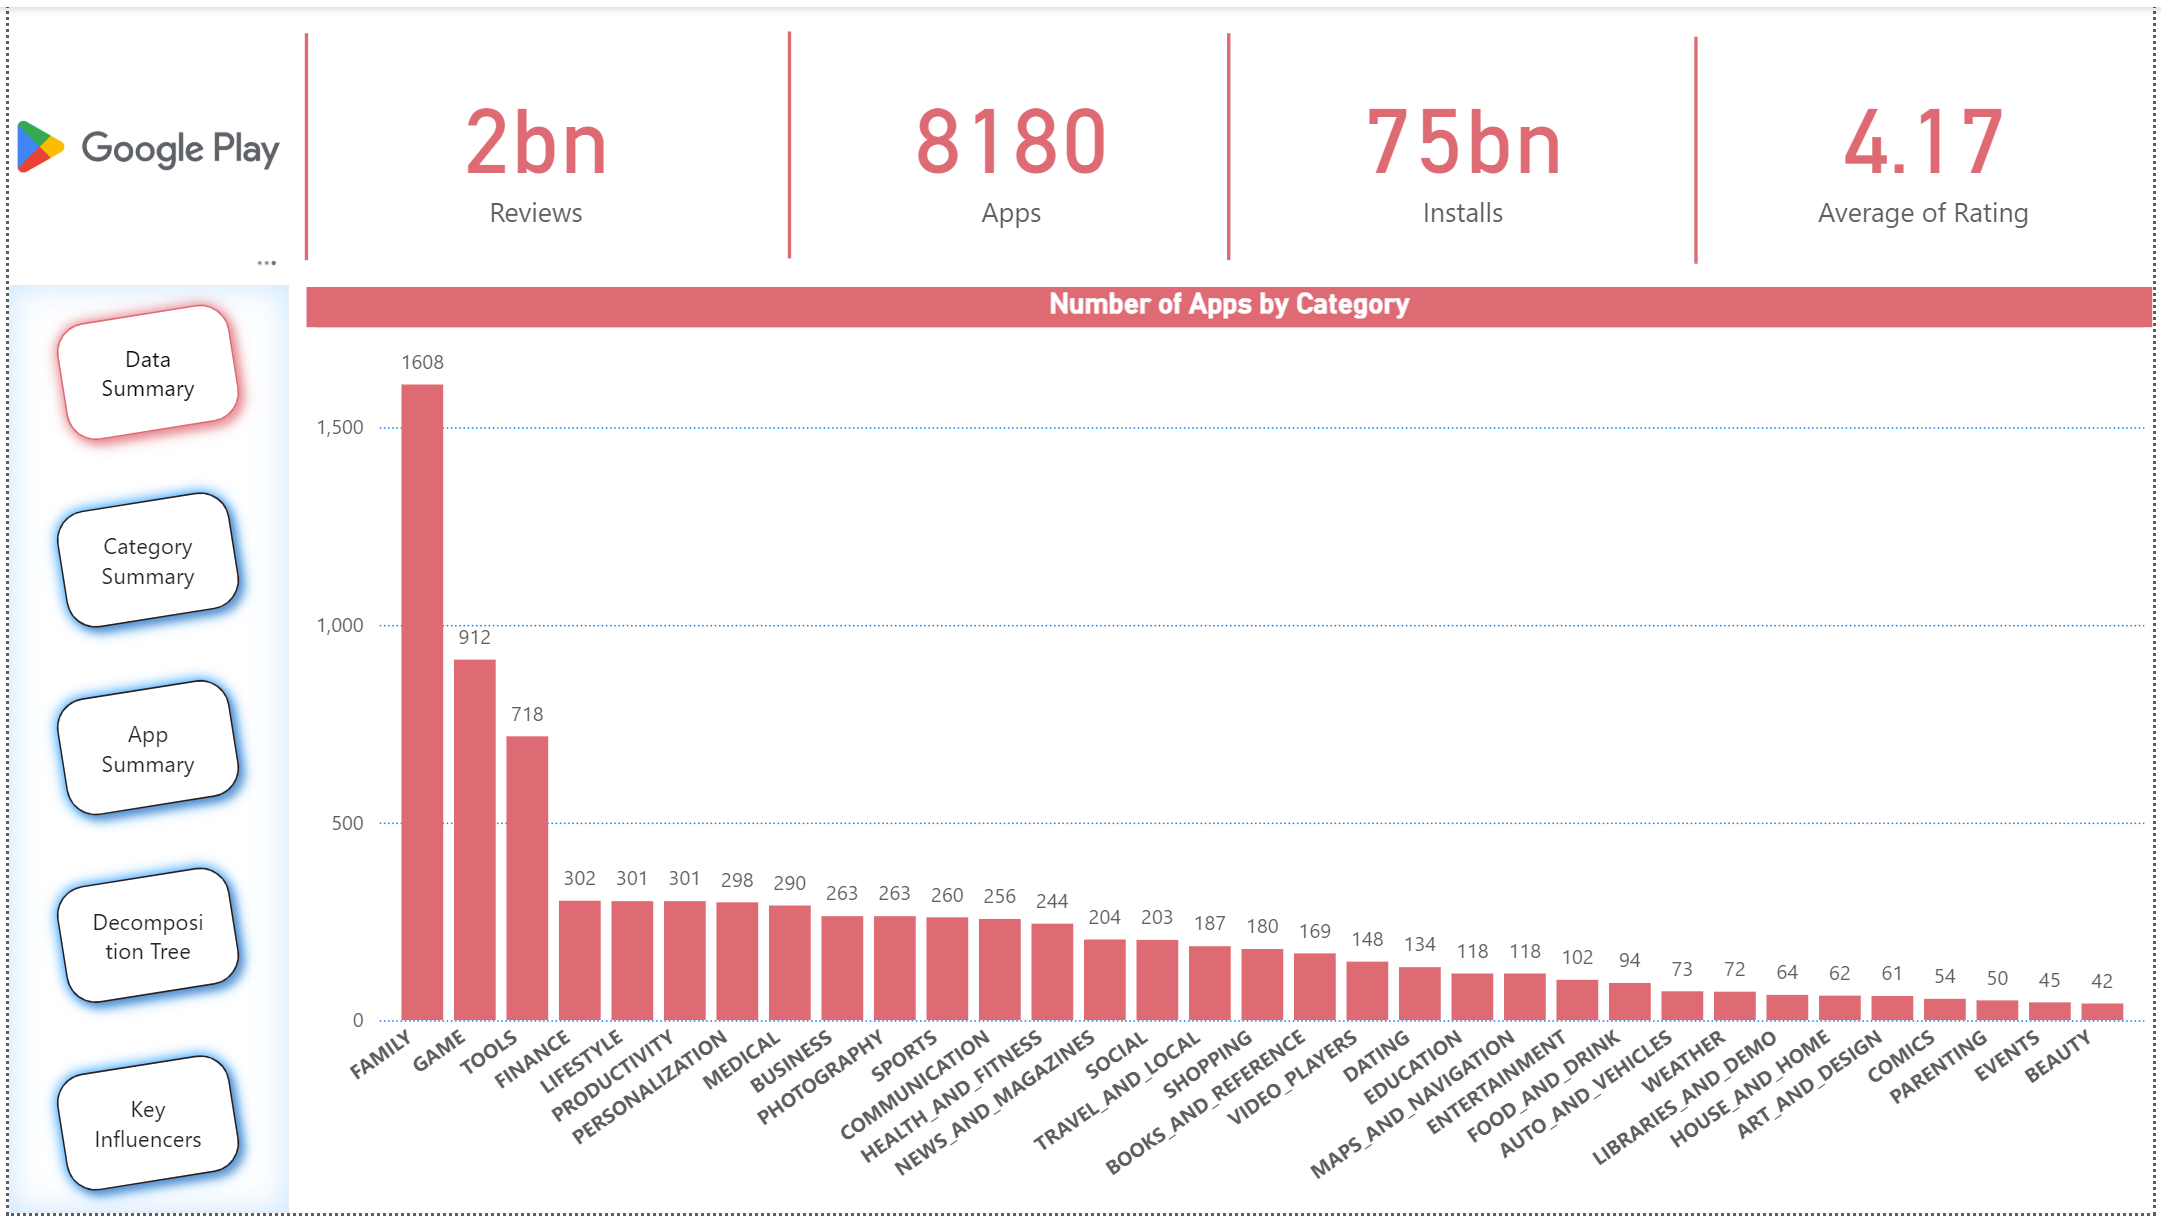

What the dashboard file says about the page in this screenshot:
{"tool":"powerbi","page":{"name":"Data Summary","canvas":[1280,720],"ordinal":0},"visuals":[{"type":"card","fields":{"Values":["Sum(Play Store Data.Installs)"]},"box":[728.8,0,277.4,166.7],"z":0},{"type":"card","fields":{"Values":["Count(Play Store Data.App)"]},"box":[466.4,0,262.4,166.7],"z":1000},{"type":"card","fields":{"Values":["Sum(Play Store Data.Reviews)"]},"box":[177.9,0,273.6,166.7],"z":2000},{"type":"card","fields":{"Values":["Avg(Play Store Data.Rating)"]},"box":[1006.2,0,273.6,166.7],"z":3000},{"type":"columnChart","title":"Number of Apps by Category","fields":{"Category":["Play Store Data.Category"],"Y":["CountNonNull(Play Store Data.App)"]},"box":[177.9,166.7,1102,553.5],"z":4000},{"type":"image","box":[0,0,166.7,166.7],"z":5000},{"type":"shape","box":[148,16.2,58.5,135.6],"z":6000},{"type":"shape","box":[977.6,17.4,58.5,135.6],"z":7000},{"type":"shape","box":[699,16.2,58.5,135.6],"z":8000},{"type":"shape","box":[436.6,14.9,58.5,135.6],"z":9000},{"type":"pageNavigator","box":[0,166.5,166.7,553.5],"z":10000}]}

Visuals, with their boxes in screenshot pixels (x1, y1, x2, y2), scaled from the page's 1280x720 canvas onto the 2161x1225 screenshot:
card - Sum(Play Store Data.Installs): [1230, 0, 1699, 284]
card - Count(Play Store Data.App): [787, 0, 1230, 284]
card - Sum(Play Store Data.Reviews): [300, 0, 762, 284]
card - Avg(Play Store Data.Rating): [1699, 0, 2160, 284]
"Number of Apps by Category" columnChart: [300, 284, 2160, 1224]
image: [0, 0, 281, 284]
shape: [250, 28, 349, 258]
shape: [1650, 30, 1749, 260]
shape: [1180, 28, 1279, 258]
shape: [737, 25, 836, 256]
pageNavigator: [0, 283, 281, 1224]
